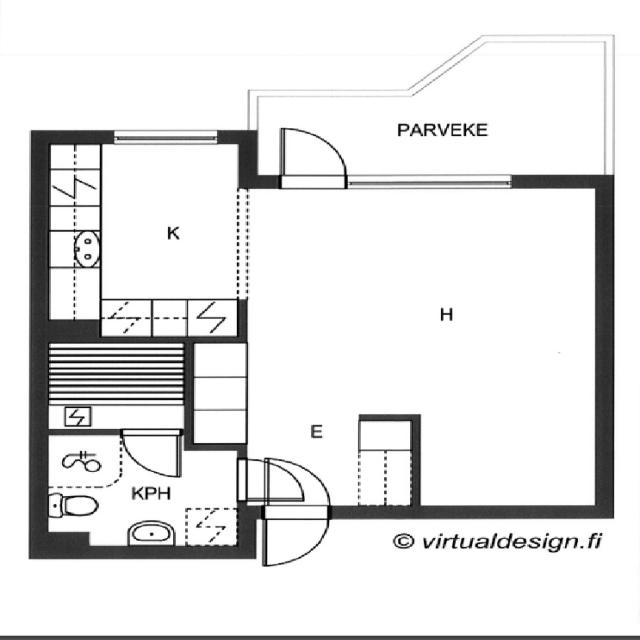door: (257, 454, 335, 572), (274, 125, 350, 187), (237, 454, 311, 504), (123, 428, 181, 478)
window: (34, 432, 245, 551), (343, 171, 512, 193), (101, 126, 228, 150)
zone: (239, 179, 609, 511), (41, 138, 248, 342), (36, 431, 253, 552), (36, 341, 189, 433)
